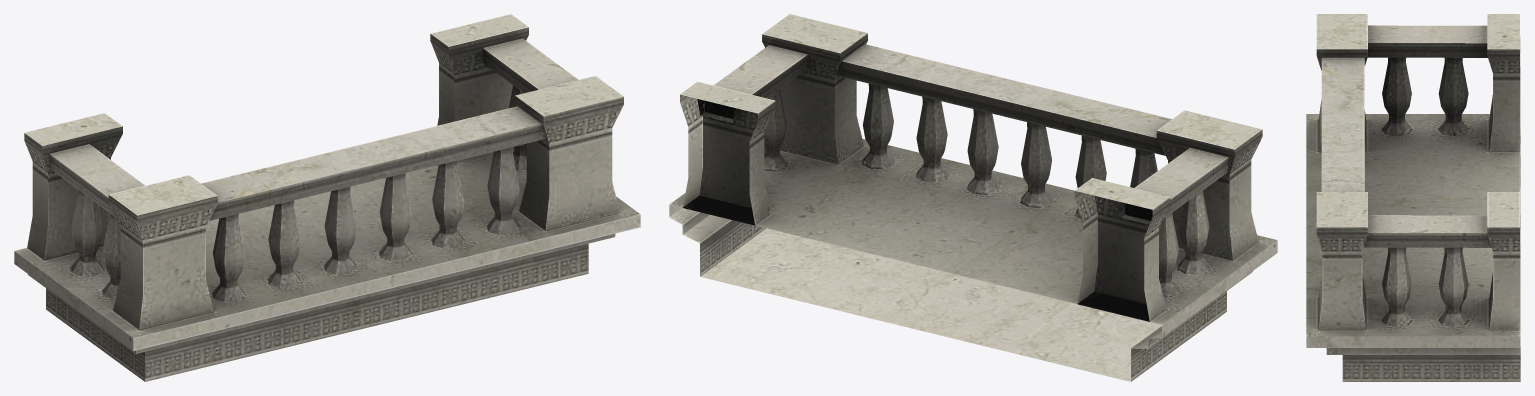
File: classicalbalcony.fbx
3 renders of one model, left to right at view 1: azimuth 30°, elevation 25°; view 2: azimuth 150°, elevation 25°; view 3: azimuth 270°, elevation 25°, orthographic. The views are drawn at different scales.
Parts seen in each view (by area): view 1: classicalBalconyMesh; view 2: classicalBalconyMesh; view 3: classicalBalconyMesh.
Part boxes in pixels (bbox=[...]): classicalBalconyMesh: bbox=[14, 14, 640, 381]; classicalBalconyMesh: bbox=[669, 14, 1277, 381]; classicalBalconyMesh: bbox=[1306, 14, 1520, 381].
Size of the model in its own units: 655 by 225 by 267.
